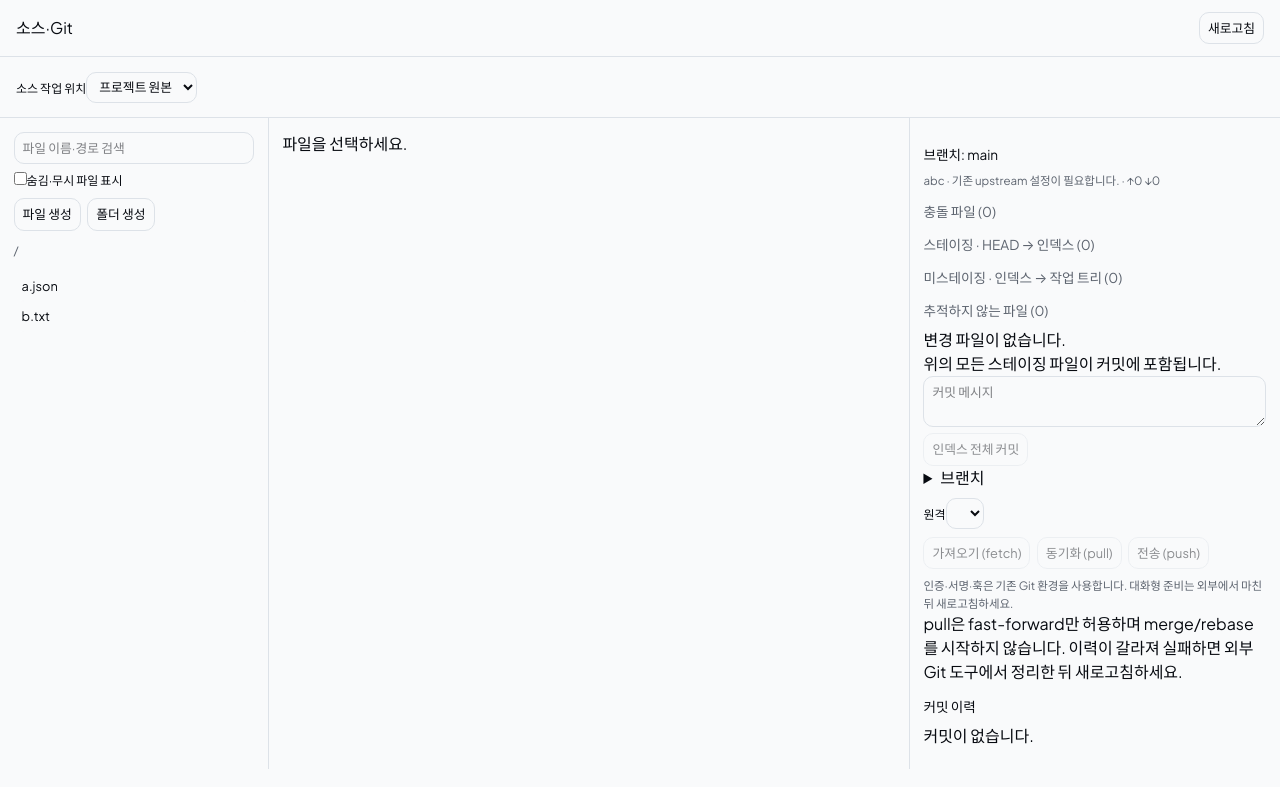
it: refreshes the open file while preserving an unsaved draft against external changes
Click the button "a.json": (134, 286) [14,271,254,302]
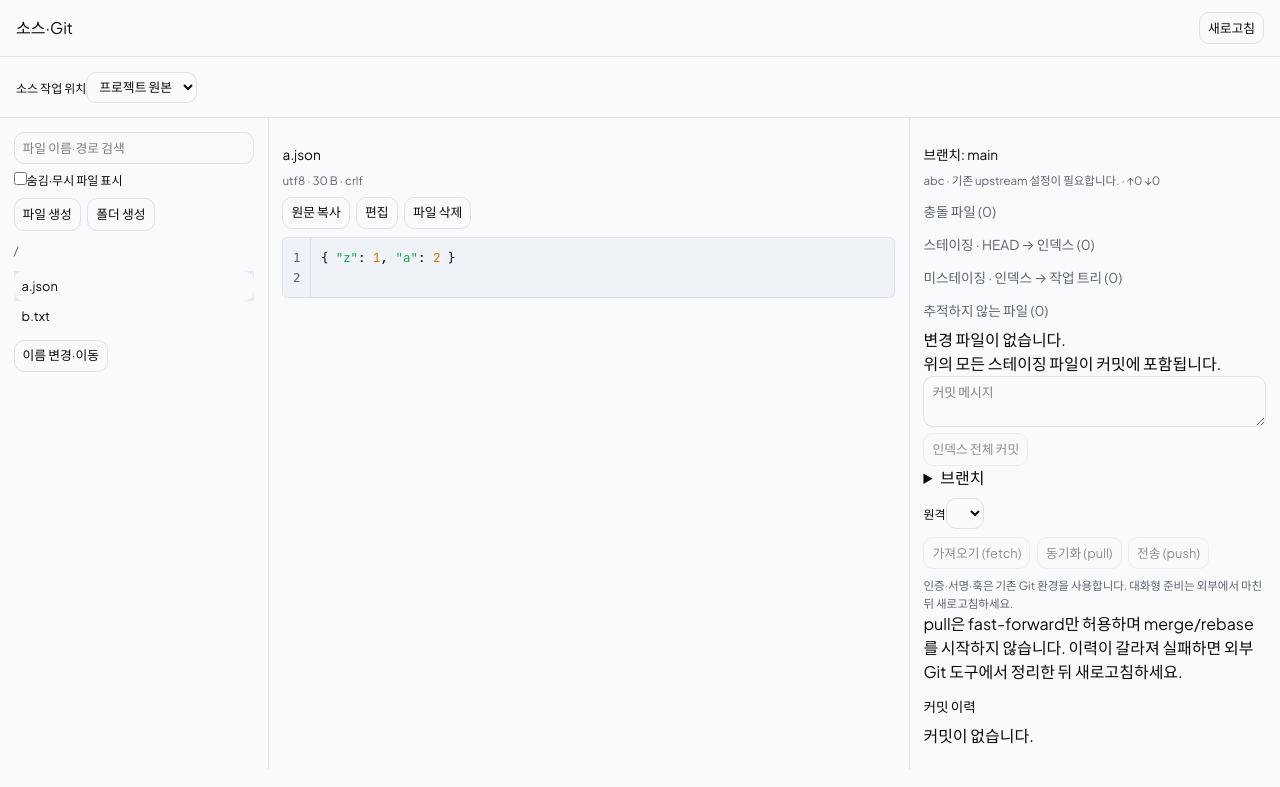
Click the button "편집": (377, 213) [356,197,398,229]
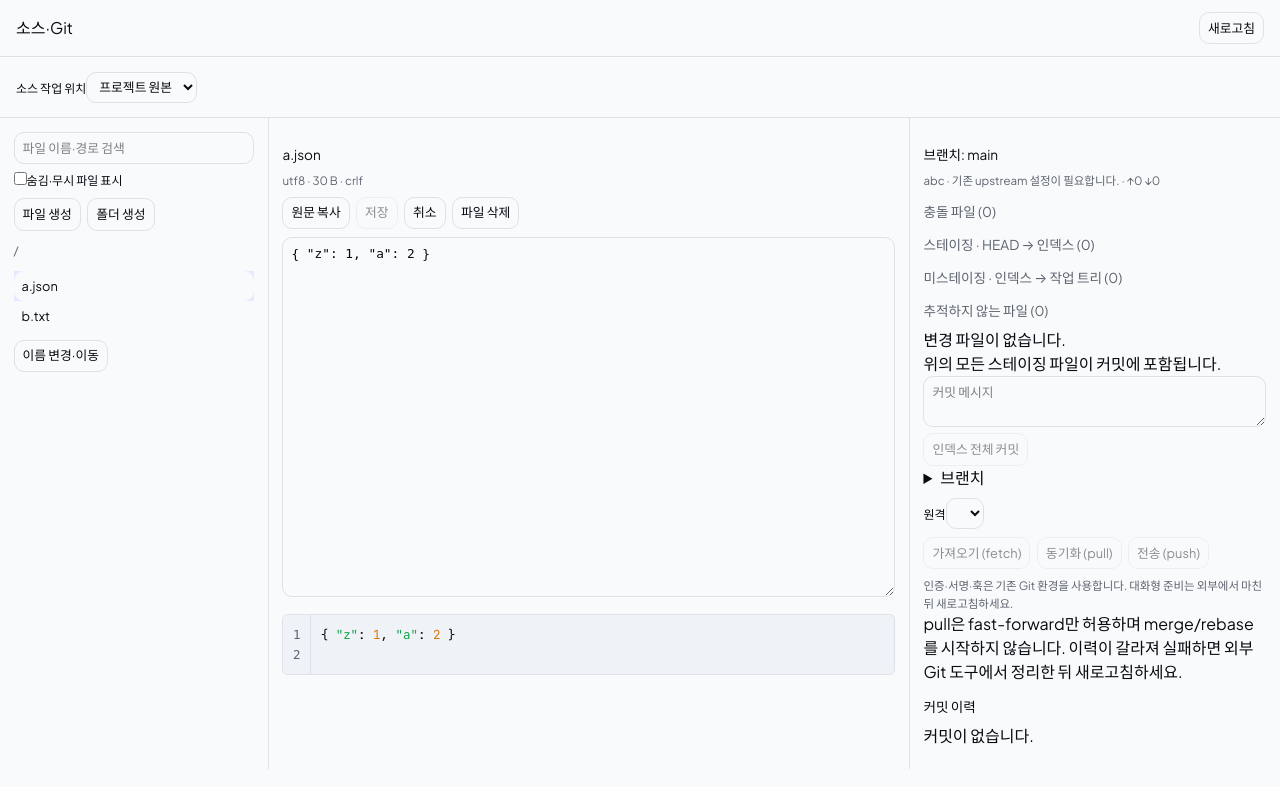
Replace the text in the text box named "파일 내용" with "keep my draft": (589, 417) [282,237,895,597]
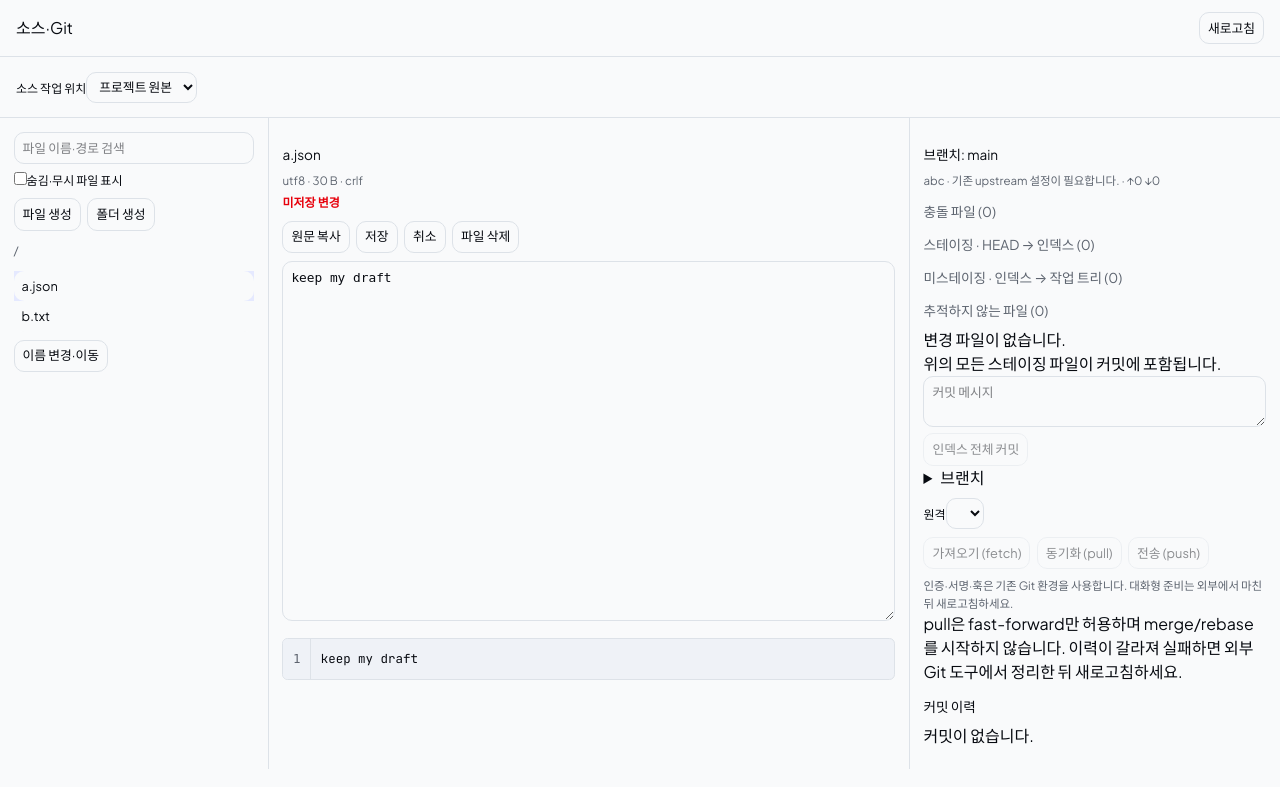
Click the button "새로고침": (1231, 28) [1199,12,1264,44]
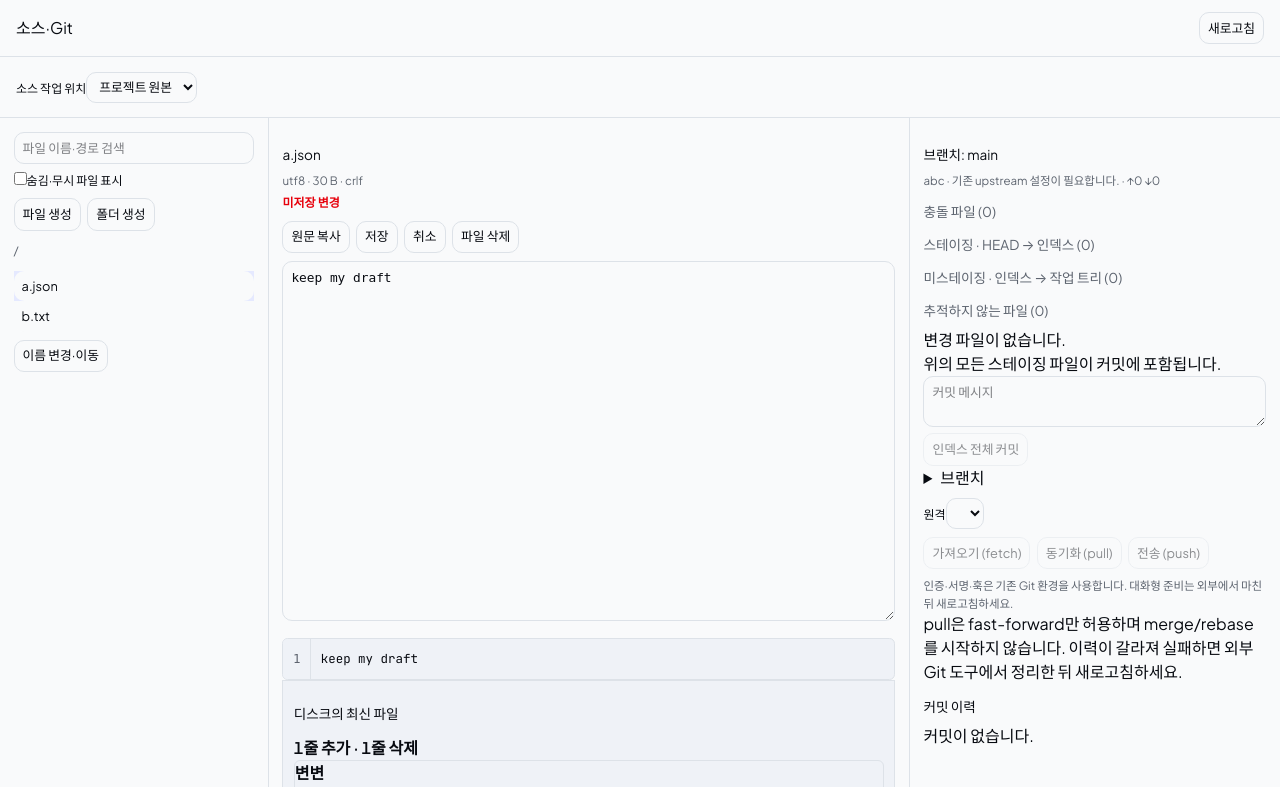
expect the heading "디스크의 최신 파일" is shown: met, box [294,705,398,722]
